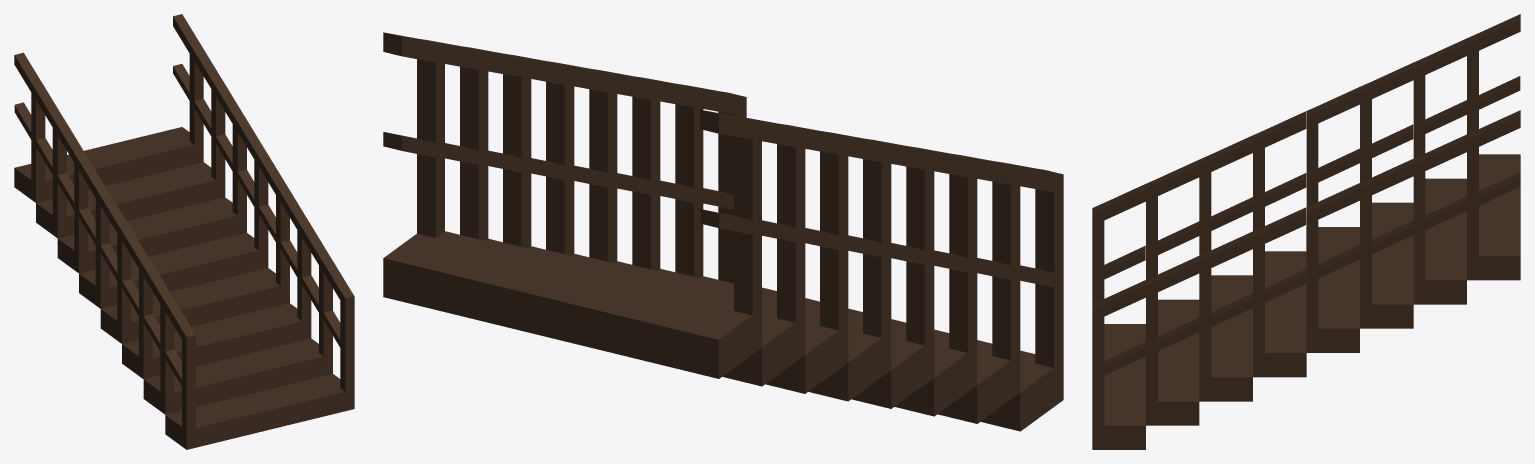
The model's file is Stairs.fbx.
The picture shows the model from 3 angles, left to right: view 1: azimuth 30°, elevation 25°; view 2: azimuth 150°, elevation 25°; view 3: azimuth 270°, elevation 25°; orthographic projection. The views are drawn at different scales.
Visible parts, largest first — view 1: Stairs; view 2: Stairs; view 3: Stairs.
Boxes of the visible parts, left/top/right/bottom form: Stairs: left=14, top=14, right=354, bottom=449; Stairs: left=383, top=32, right=1063, bottom=431; Stairs: left=1092, top=14, right=1520, bottom=449.
Bounding box in the file's own units: 4.5 × 6.89 × 8.
